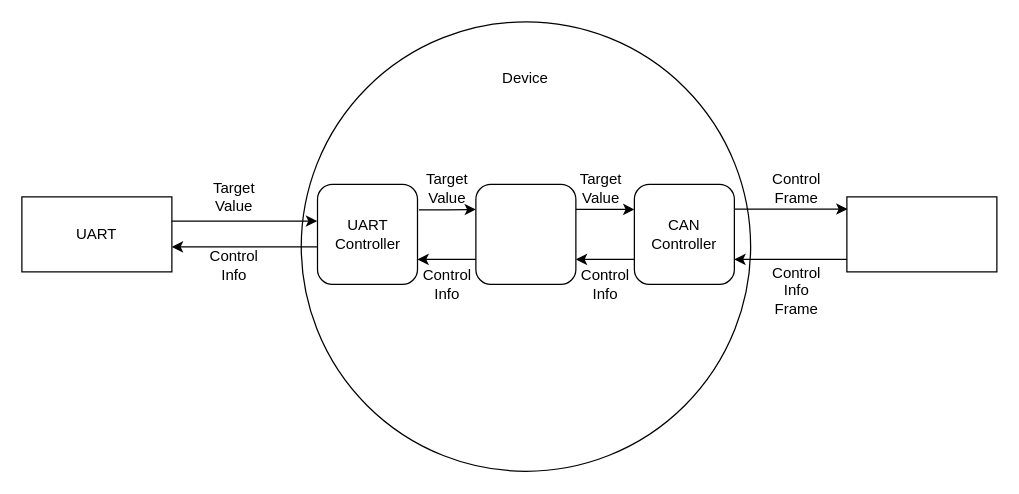
The diagram is 1019 pixels wide and 494 high, and some of its shapes have lost their labels. Here are the shapes that lost their labels. From the top down, the centre of each, then its label:
At (x=525, y=233): "Application".
At (x=921, y=234): "CAN".
